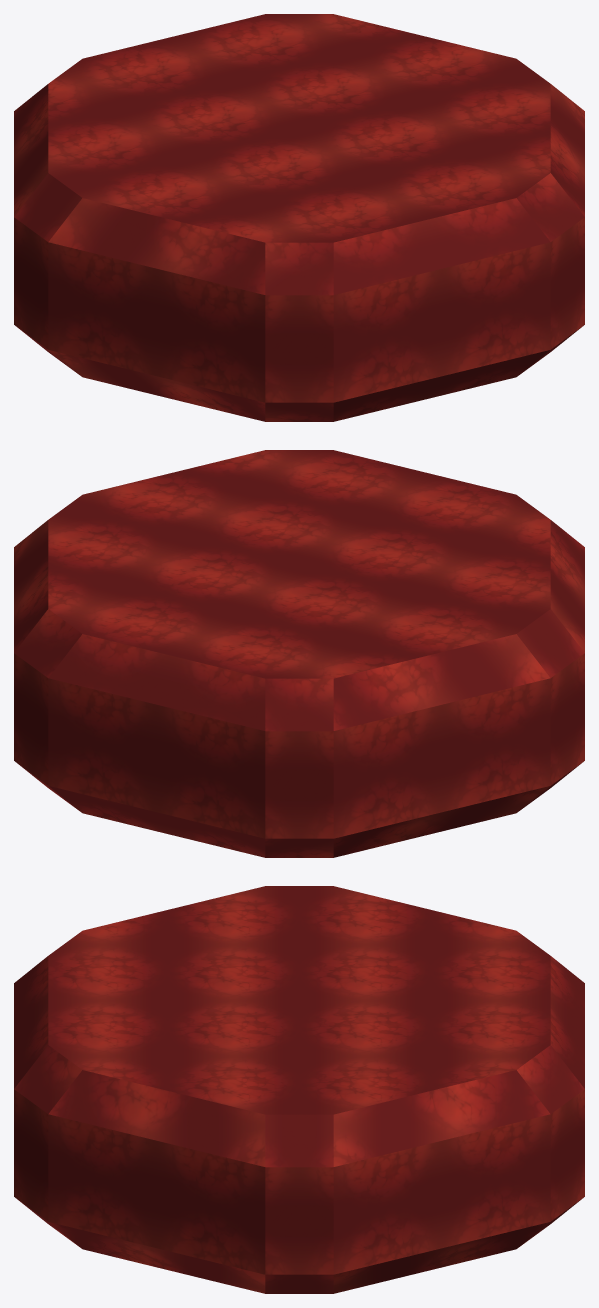
Rendered from Cell Variant A.fbx.
3 renders of one model, top to bottom at view 1: azimuth 30°, elevation 25°; view 2: azimuth 150°, elevation 25°; view 3: azimuth 270°, elevation 25°, orthographic.
Parts seen in each view (by area): view 1: Cell_Variant_A; view 2: Cell_Variant_A; view 3: Cell_Variant_A.
Part boxes in pixels (box(x1,y1,x2,y2)): Cell_Variant_A: box(14, 14, 584, 421); Cell_Variant_A: box(14, 450, 584, 857); Cell_Variant_A: box(14, 886, 584, 1293).
Bounding box in the file's own units: 470 × 150 × 433.
Materials: 1 (1 with a texture image).
